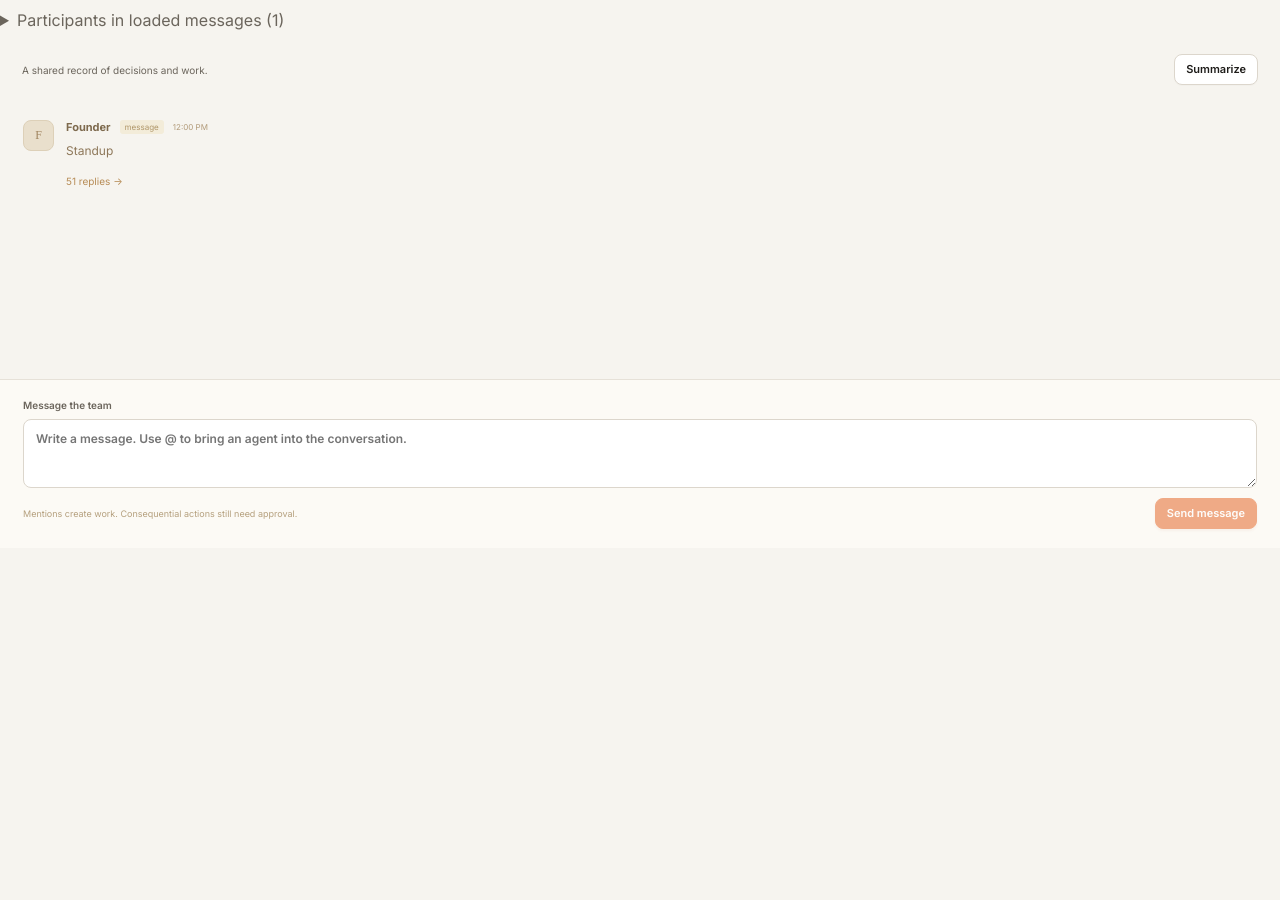
Scenario: loads older thread replies with their cursor and deduplicates overlapping live messages
The width and height of the screenshot is (1280, 900).
Click the button with class "thread-button" at (94, 181), box left=66, top=168, right=123, bottom=194
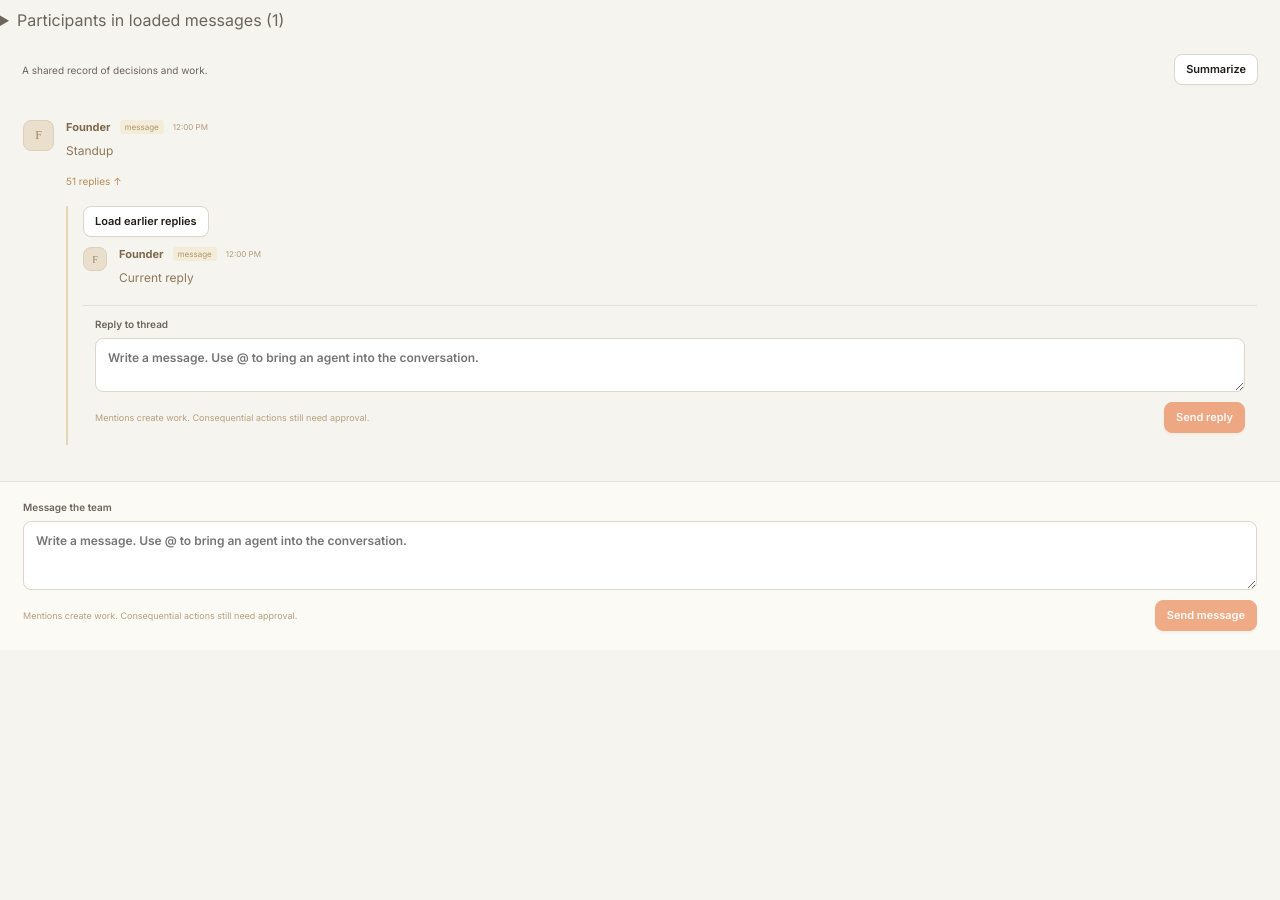
Click the button "Load earlier replies" at (146, 222), box left=83, top=206, right=209, bottom=237
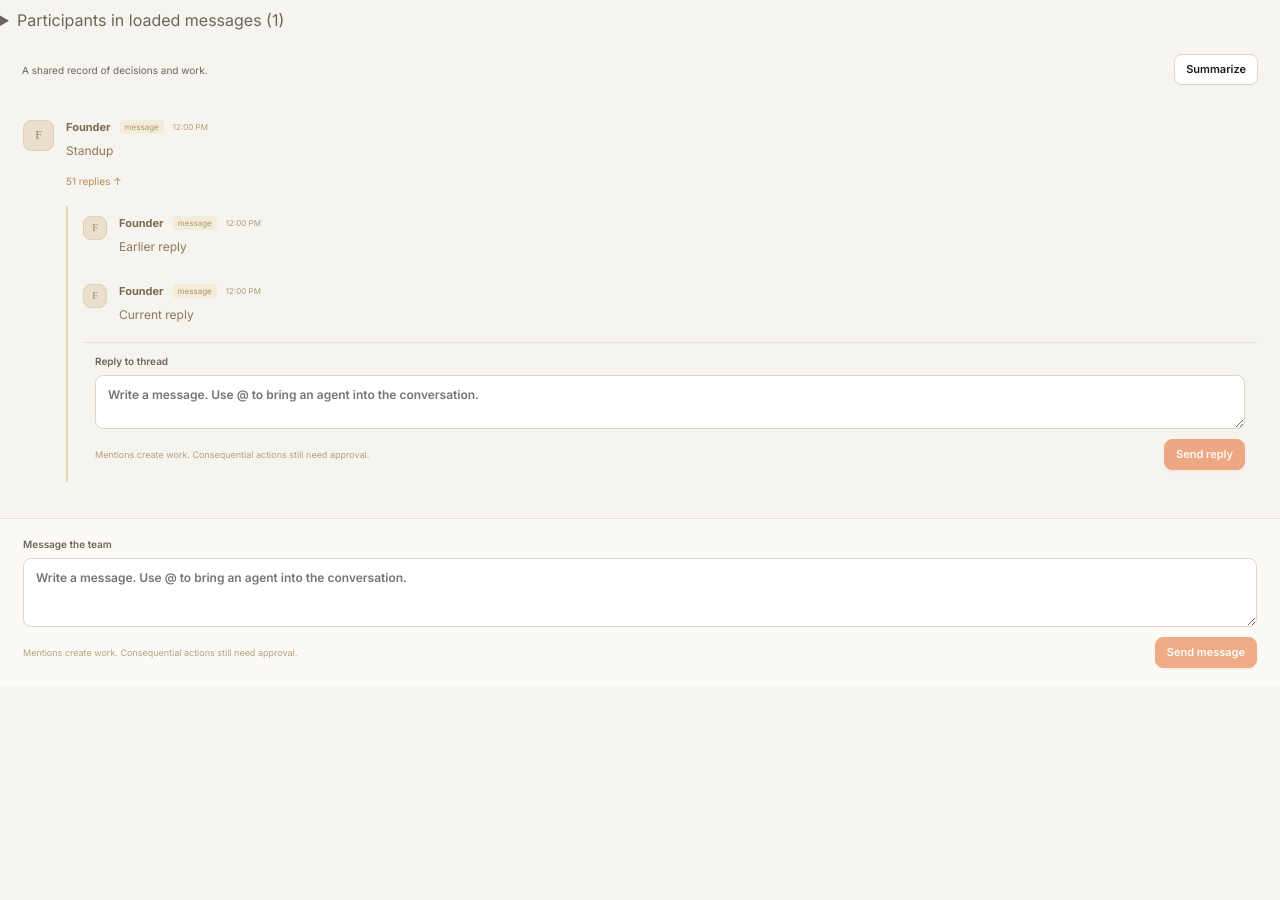
Result: the text "Load earlier replies" is gone
